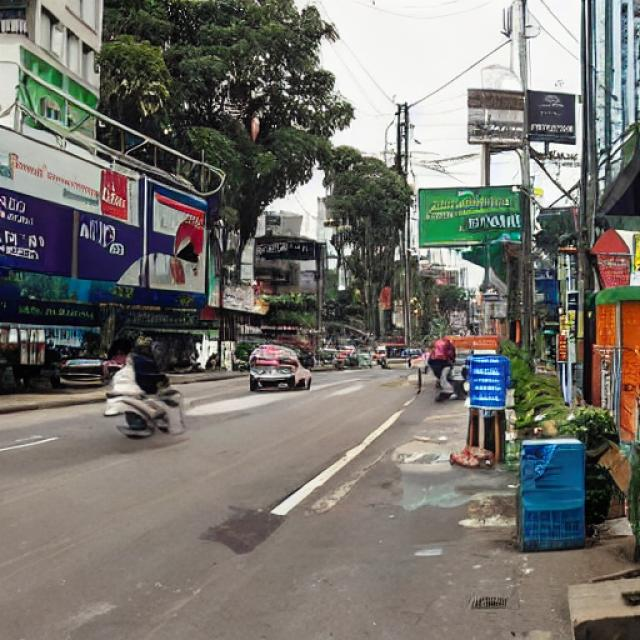Billboard: (0, 125, 208, 299)
